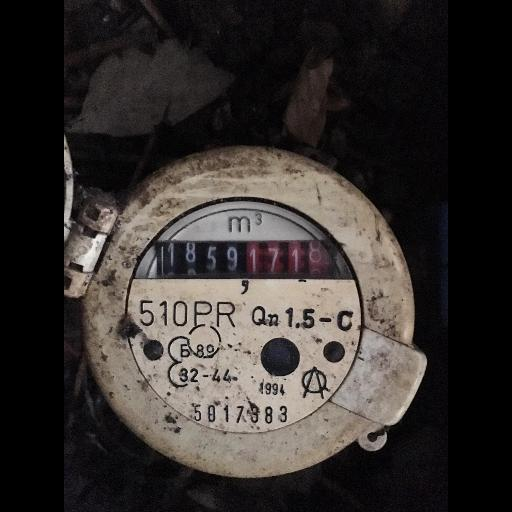1: (164, 243, 179, 276), (289, 242, 303, 275), (246, 242, 259, 275)
5: (204, 243, 220, 274)
7: (266, 242, 281, 274)
8: (308, 241, 325, 276), (183, 242, 199, 275)
9: (224, 243, 241, 273)
border_water_meter_number: (156, 241, 331, 280)
